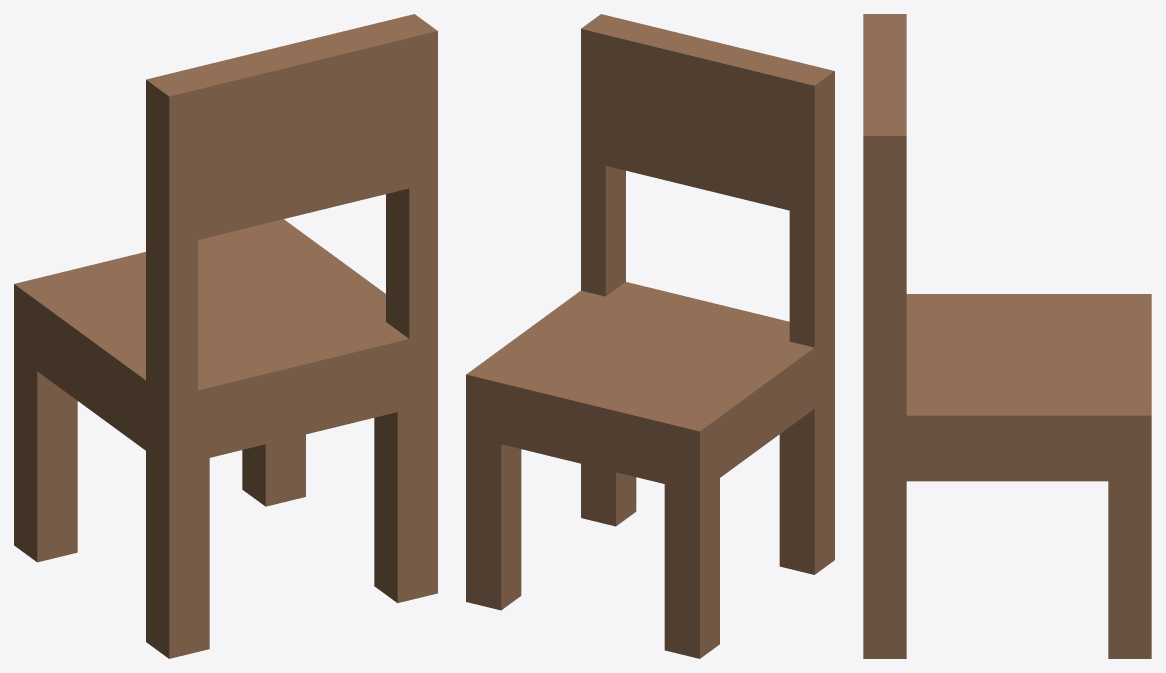
The model's file is wood_chair2.fbx.
The picture shows the model from 3 angles, left to right: view 1: azimuth 30°, elevation 25°; view 2: azimuth 150°, elevation 25°; view 3: azimuth 270°, elevation 25°; orthographic projection. The views are drawn at different scales.
Visible parts, largest first — view 1: Cube; view 2: Cube; view 3: Cube.
Boxes of the visible parts, x1=… form: Cube: x1=14, y1=14, x2=437, y2=658; Cube: x1=466, y1=14, x2=834, y2=658; Cube: x1=863, y1=14, x2=1151, y2=658.
Size of the model in its own units: 200 by 400 by 200.
